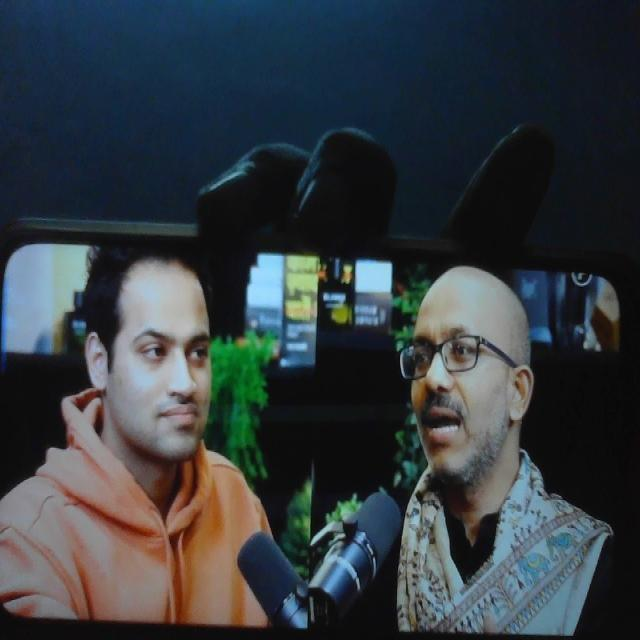fake: (396, 241, 524, 483), (95, 231, 216, 458)
